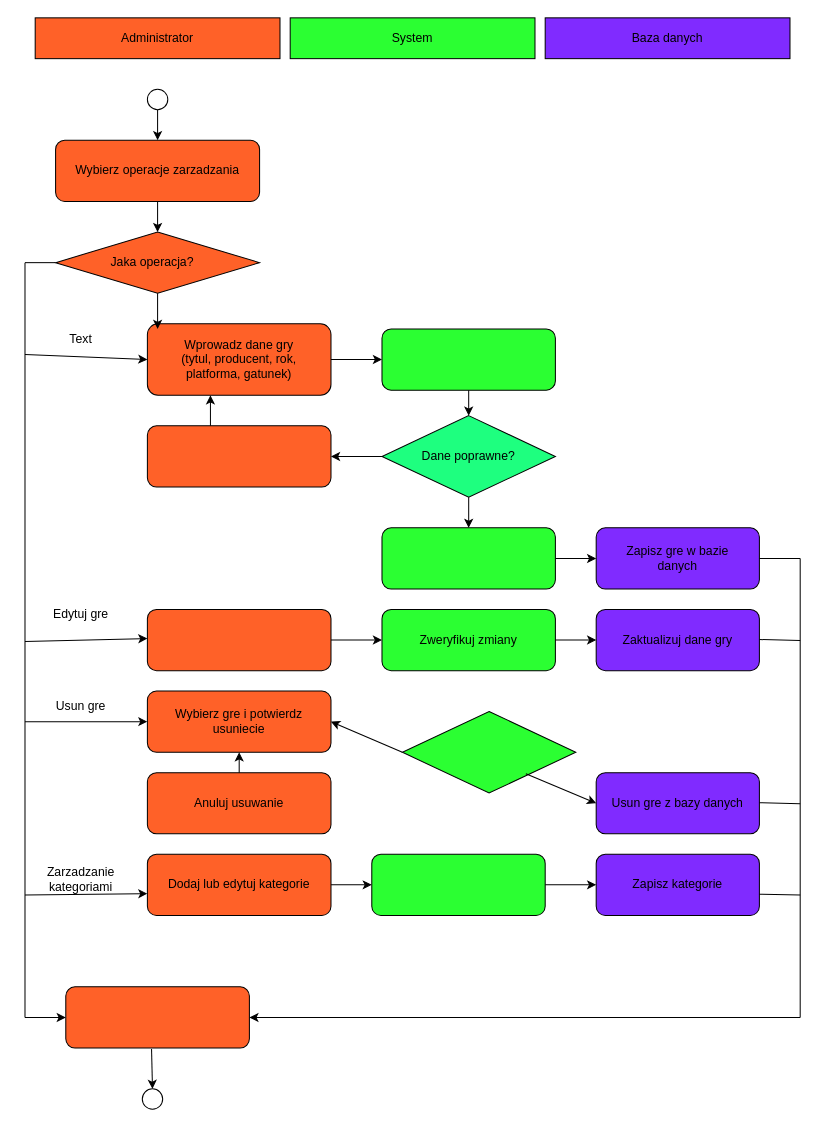
Image size: 826x1127. Some labels were removed from this diagram. The box of each missing label's shape, as (x1, y1, x2, y2) in pixels:
Pokaz komunikat o bledzie: (146, 425, 331, 487)
Potwierdzic usuniecie?: (401, 710, 576, 793)
Przygotuj zapis gry: (381, 527, 555, 589)
Sprawdz kategorie: (371, 853, 545, 915)
Sprawdz poprawnosc danych i duplikaty: (381, 328, 555, 390)
Wybierz gre i zamien dane: (146, 608, 331, 671)
Wyswietl potwierdzenie operacji: (65, 986, 249, 1048)
